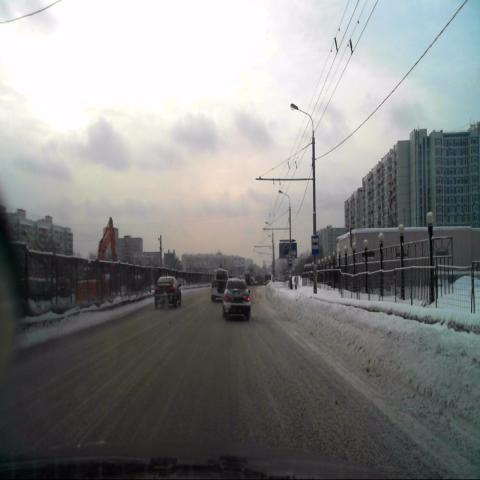5_16: (311, 235, 319, 254)
